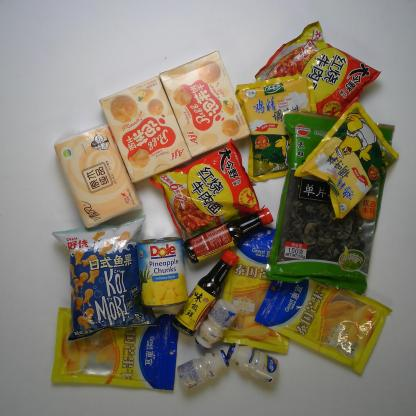Canned Food: (130, 231, 190, 310)
Dessert: (97, 74, 192, 185), (157, 49, 254, 157)
Dried Food: (264, 108, 397, 296)
Dried Fruit: (251, 260, 393, 376), (52, 302, 184, 392), (216, 222, 304, 356)
Instant Noodles: (254, 19, 384, 118), (149, 136, 266, 240)
Milk: (222, 336, 280, 386), (174, 347, 232, 392), (193, 296, 240, 350)
Puffed Food: (50, 214, 162, 343)
Seasoner: (291, 99, 401, 220), (232, 72, 326, 183), (171, 248, 239, 336), (183, 205, 278, 264)
Tissue: (53, 121, 142, 231)
